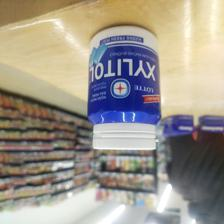Xylitol_blue: (86, 24, 163, 154)
